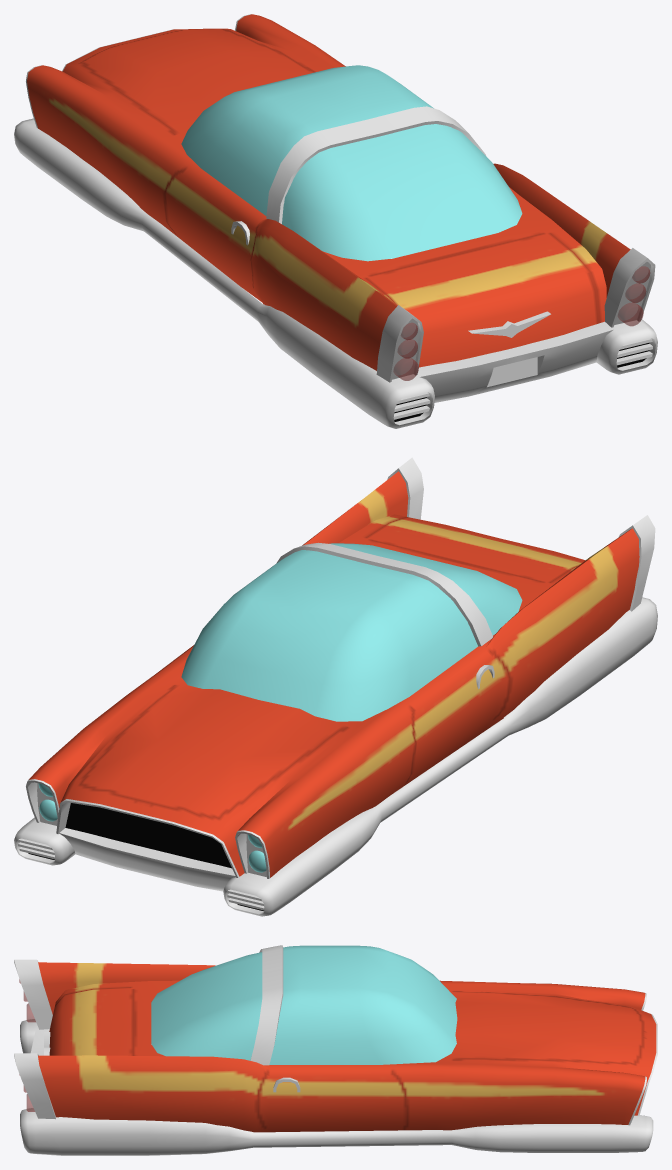
File: Ponyville.glb
3 renders of one model, top to bottom at view 1: azimuth 30°, elevation 25°; view 2: azimuth 150°, elevation 25°; view 3: azimuth 270°, elevation 25°, orthographic. The views are drawn at different scales.
Visible parts, largest first — view 1: Ponyville; view 2: Ponyville; view 3: Ponyville.
Boxes of the visible parts, x1,y1,x2,y2 form: Ponyville: [14, 14, 657, 428]; Ponyville: [14, 457, 657, 916]; Ponyville: [14, 945, 657, 1155].
Size of the model in its own units: 8.01 by 4.74 by 20.11.
5 materials, 1 textured.
